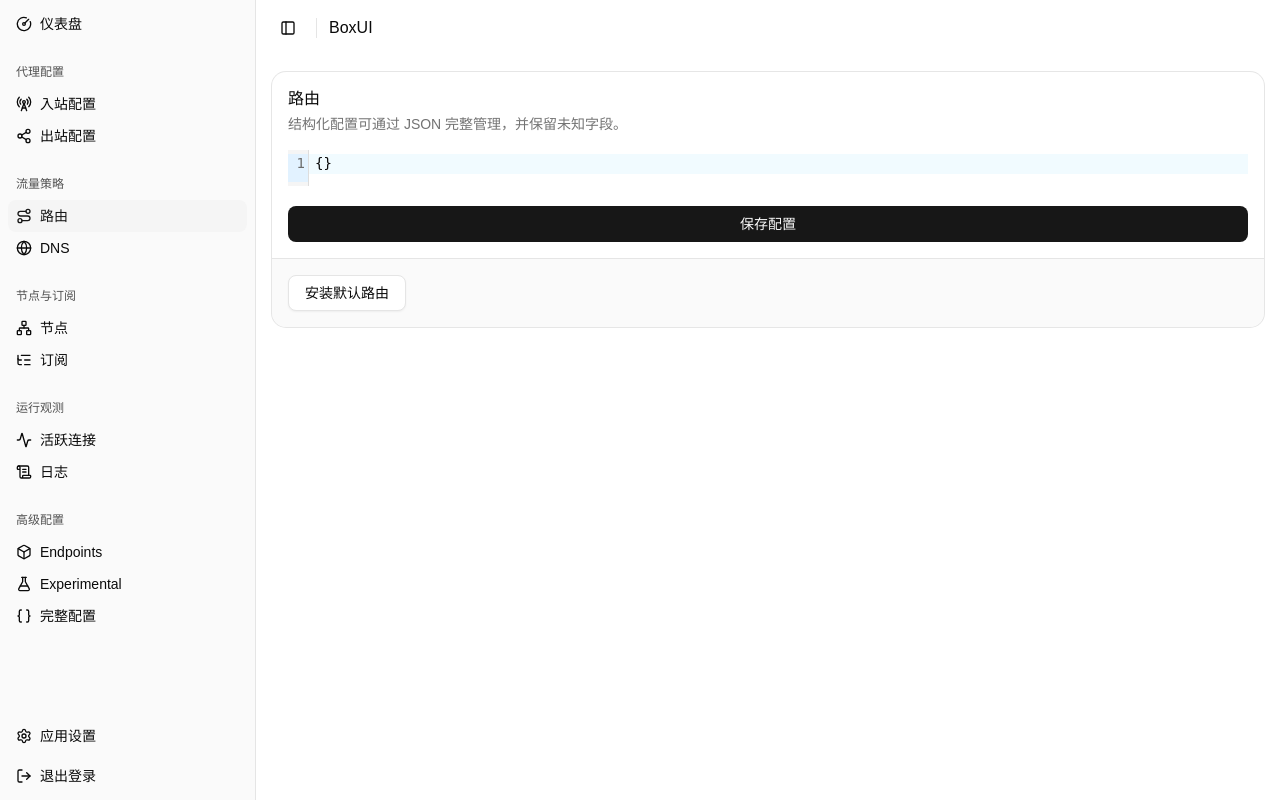
Test: policy save and rollback states › stops route installation when rule sets roll back
The width and height of the screenshot is (1280, 800).
Click the button "安装默认路由". click: (347, 293)
box: [288, 275, 406, 311]
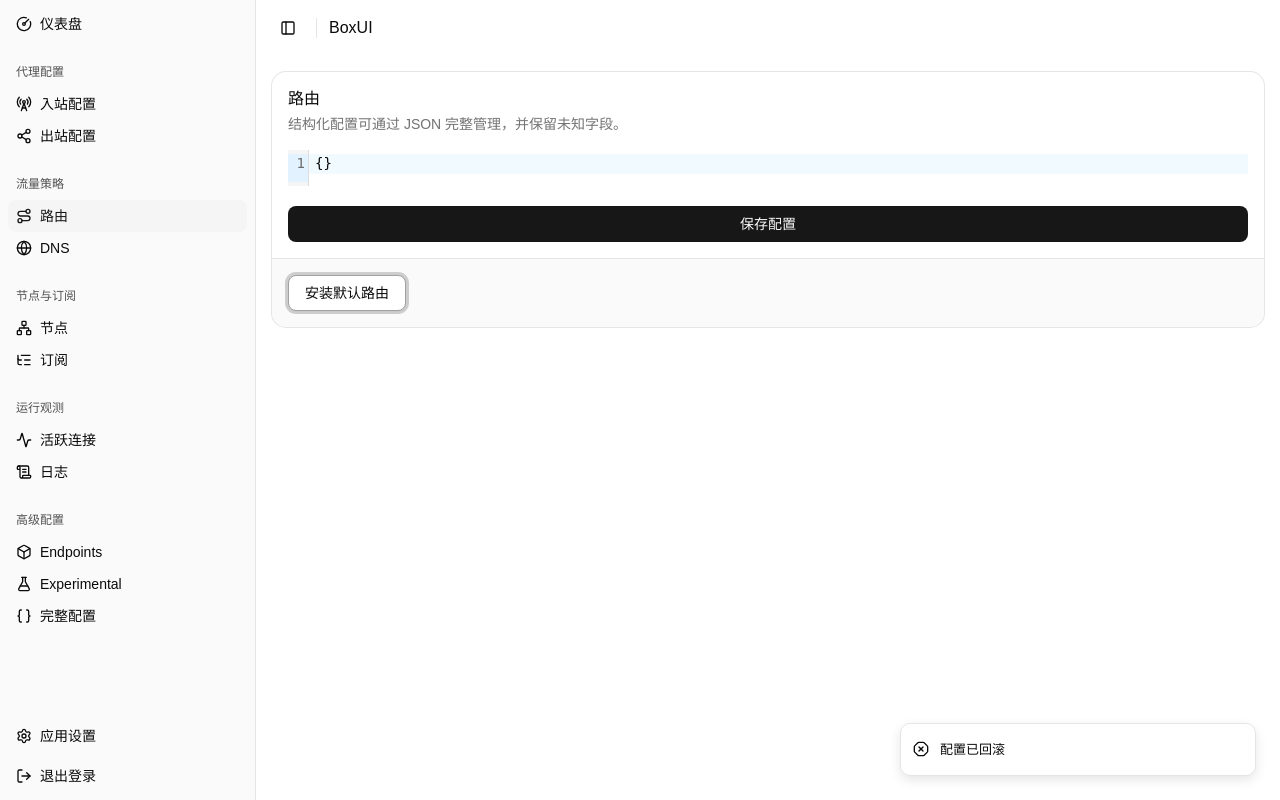
Expected: the text "配置已回滚" is shown, [940, 740, 1005, 759]
